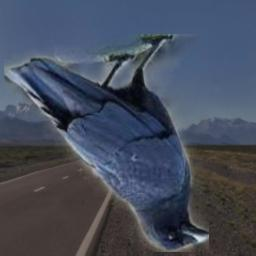Crow: (4, 34, 209, 252)
